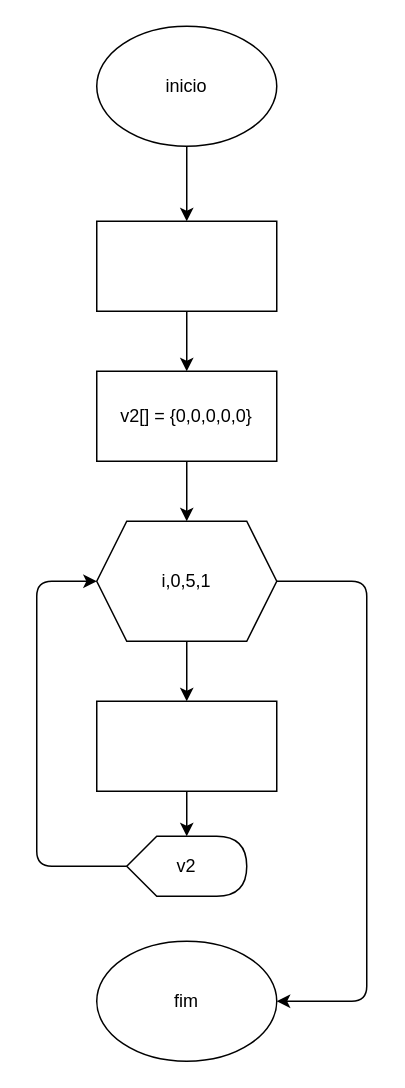
Some shapes in this 405 by 1088 pixel diagram are drawn without their labels. Here are the shapes that lost their labels. From the top down, the box of each, then its label:
(95, 220, 277, 311): v1[] = {41,72,39,4,35}
(95, 700, 277, 791): v1[i] = v2[i]
